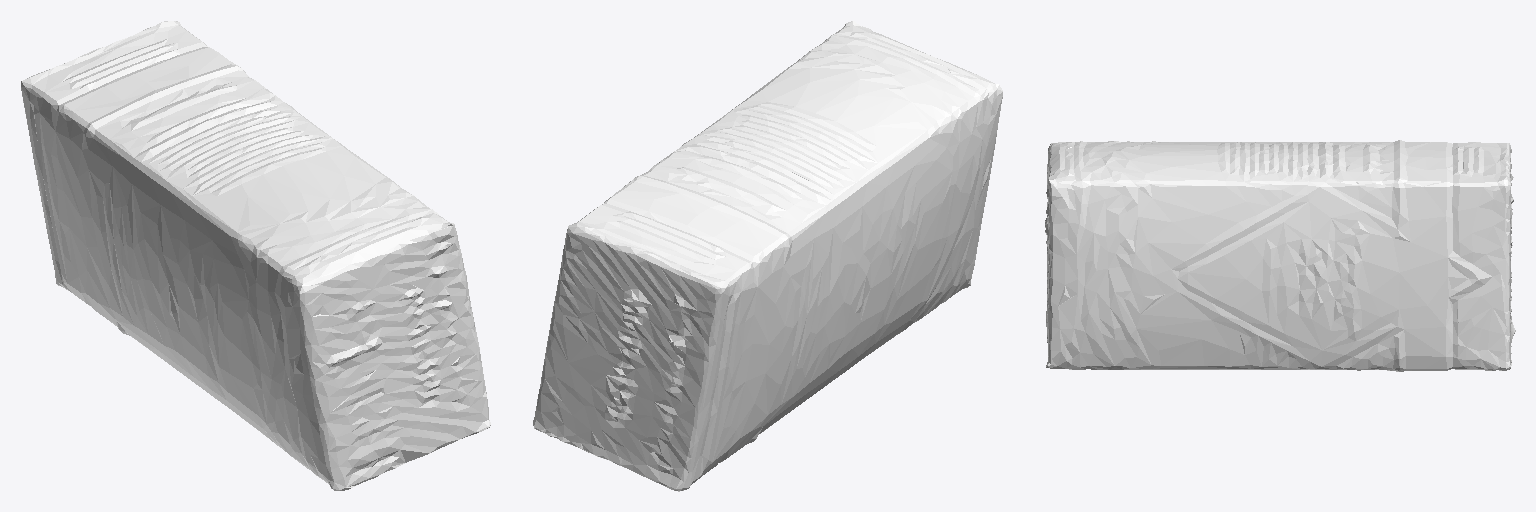
URDF robot description (BlueSaltCube_5k):
<?xml version="1.0" ?>
<robot name="BlueSaltCube_5k">
 <link name="baseLink">
   <contact>
     <lateral_friction value="0.5"/>
   </contact>
   <inertial>
     <origin rpy="0 0 0" xyz="0.005529779 0.033063362 0.00041268800000000003"/>
      <mass value="1.0"/>
      <inertia ixx="926085120.000000" ixy="-2189129.750000" ixz="9807299.000000" iyy="245418688.000000" iyz="503567.437500" izz="875387200.000000"/>
   </inertial>
   <visual>
     <origin rpy="0 0 0" xyz="0 0 0"/>
     <geometry>
       <mesh filename="BlueSaltCube_5k.obj" scale="0.001 0.001 0.001"/>
     </geometry>
      <material name="white">
       <color rgba="1 1 1 1"/>
     </material>
   </visual>
   <collision>
     <origin rpy="0 0 0" xyz="0 0 0"/>
     <geometry>
       <mesh filename="BlueSaltCube_5k_vhacd2.obj" scale="0.001 0.001 0.001"/>
     </geometry>
   </collision>
 </link>
</robot>

--- Render facts (derived) ---
Views: 3 orthographic renders of the robot side by side, from view 1: azimuth 30°, elevation 25°; view 2: azimuth 150°, elevation 25°; view 3: azimuth 270°, elevation 25°.
Robot: BlueSaltCube_5k — 1 links, 0 joints (none); root link baseLink; default pose: every joint at zero.
Visible links, largest first — view 1: baseLink; view 2: baseLink; view 3: baseLink.
Link boxes in pixels (left/top/right/bottom): baseLink: left=21, top=21, right=490, bottom=490; baseLink: left=533, top=21, right=1002, bottom=491; baseLink: left=1045, top=140, right=1515, bottom=371.
Bounding box of the posed robot: 0.0575 × 0.1469 × 0.0685 m (x, y, z).
1 mesh visuals loaded from 1 distinct referenced files (1 OBJ).